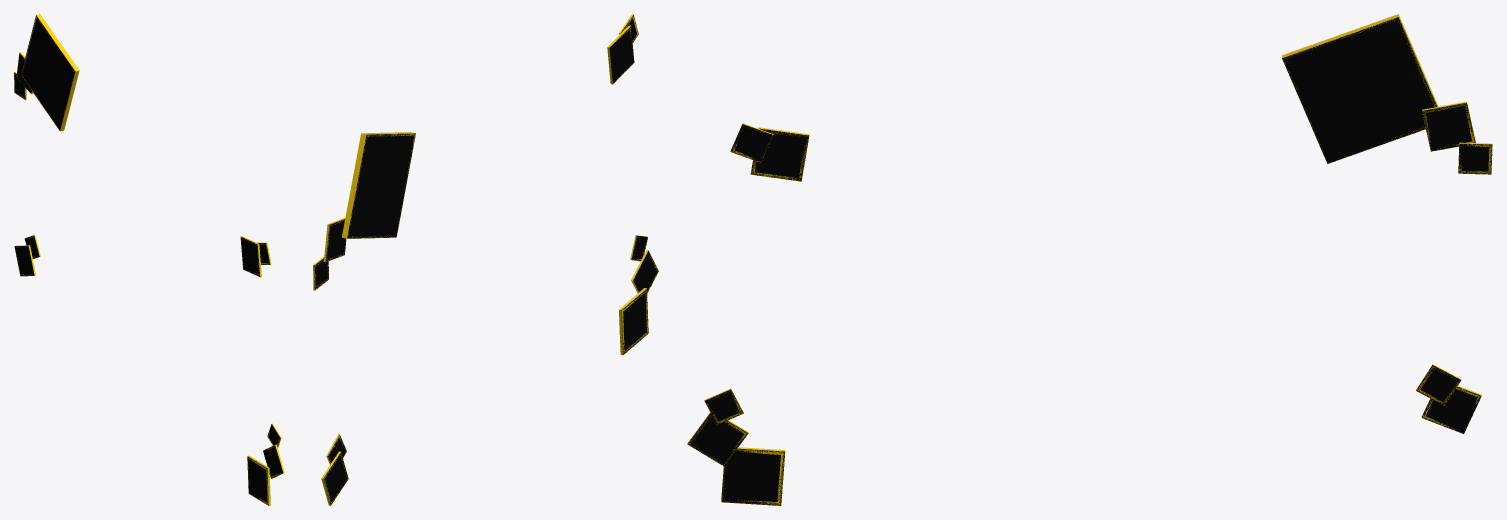
The model's file is REC_UI_objects3.fbx.
3 renders of one model, left to right at view 1: azimuth 30°, elevation 25°; view 2: azimuth 150°, elevation 25°; view 3: azimuth 270°, elevation 25°, orthographic. The views are drawn at different scales.
Parts seen in each view (by area): view 1: Stage3, Stage3.007, Stage3.005, Stage3.003, Stage3.008; view 2: Stage3, Stage3.007, Stage3.005, Stage3.003, Stage3.001, Stage3.008, Stage3.002; view 3: Stage3, Stage3.007, Stage3.005, Stage3.001, Stage3.008, Stage3.003, Stage3.006, Stage3.004, Stage3.002.
Boxes of the visible parts, x1,y1,x2,y2 form: Stage3: (21, 14, 79, 131); Stage3.007: (247, 455, 270, 505); Stage3.005: (240, 236, 261, 277); Stage3.003: (14, 245, 35, 276); Stage3.008: (263, 444, 284, 478); Stage3: (341, 132, 415, 238); Stage3.007: (619, 288, 648, 355); Stage3.005: (607, 25, 634, 84); Stage3.003: (321, 451, 348, 505); Stage3.001: (323, 218, 346, 262); Stage3.008: (631, 250, 658, 293); Stage3.002: (313, 256, 328, 290); Stage3: (1282, 14, 1438, 163); Stage3.007: (721, 447, 785, 505); Stage3.005: (750, 127, 809, 181); Stage3.001: (1422, 101, 1475, 151); Stage3.008: (687, 412, 748, 466); Stage3.003: (1421, 385, 1481, 433); Stage3.006: (730, 123, 773, 162); Stage3.004: (1416, 364, 1461, 405); Stage3.002: (1458, 142, 1492, 174).
Size of the model in its own units: 0.4504 by 11.94 by 17.88.
